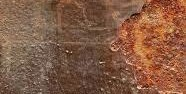Corrosion: (109, 1, 186, 94)
